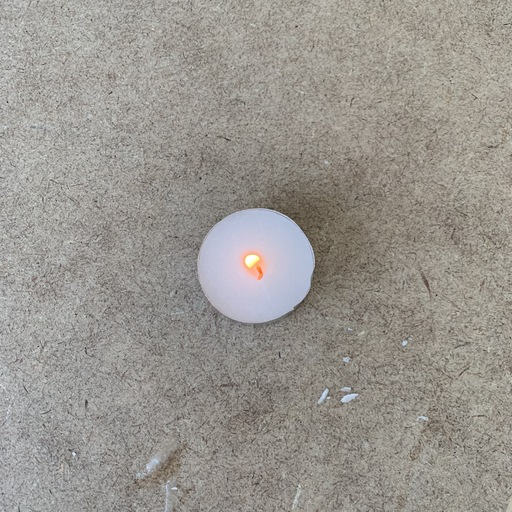fire: (234, 249, 267, 283)
